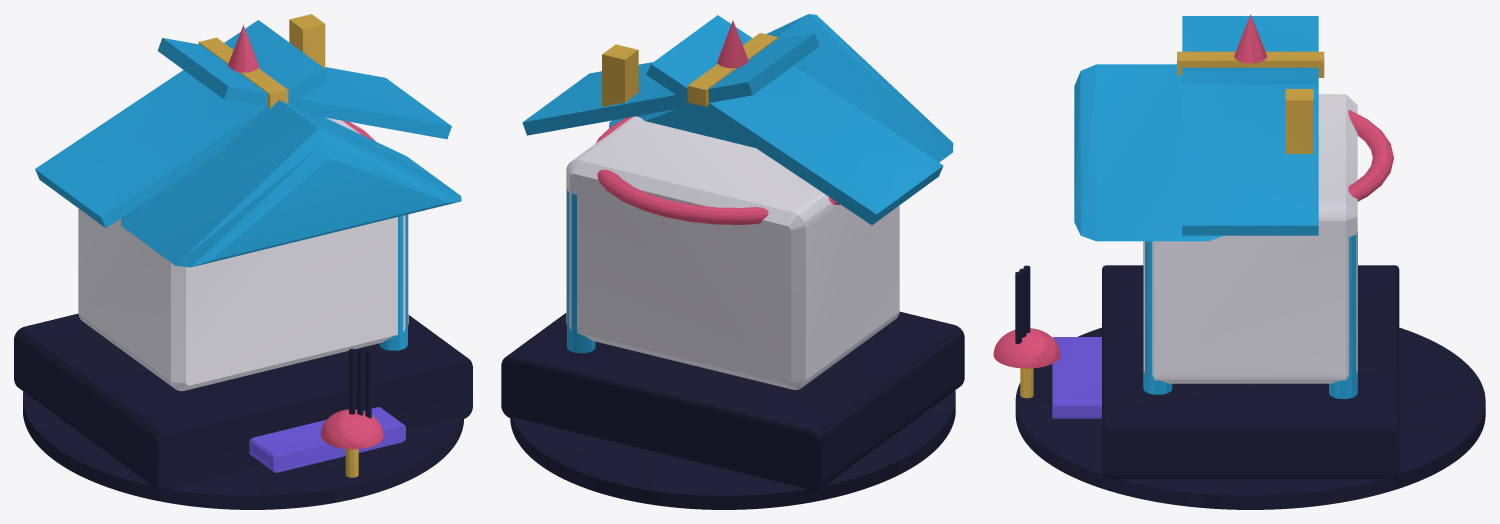
Rendered from 0794_中国建筑图鉴_佛光寺东大殿.glb.
The picture shows the model from 3 angles, left to right: view 1: azimuth 30°, elevation 25°; view 2: azimuth 150°, elevation 25°; view 3: azimuth 270°, elevation 25°; orthographic projection. The views are drawn at different scales.
Visible parts, largest first — view 1: card_0794; view 2: card_0794; view 3: card_0794.
Part boxes in pixels (<box>): card_0794: <box>14,14,472,509</box>; card_0794: <box>501,14,964,509</box>; card_0794: <box>993,14,1485,509</box>.
Bounding box in the file's own units: 1.01 × 1 × 1.11.
